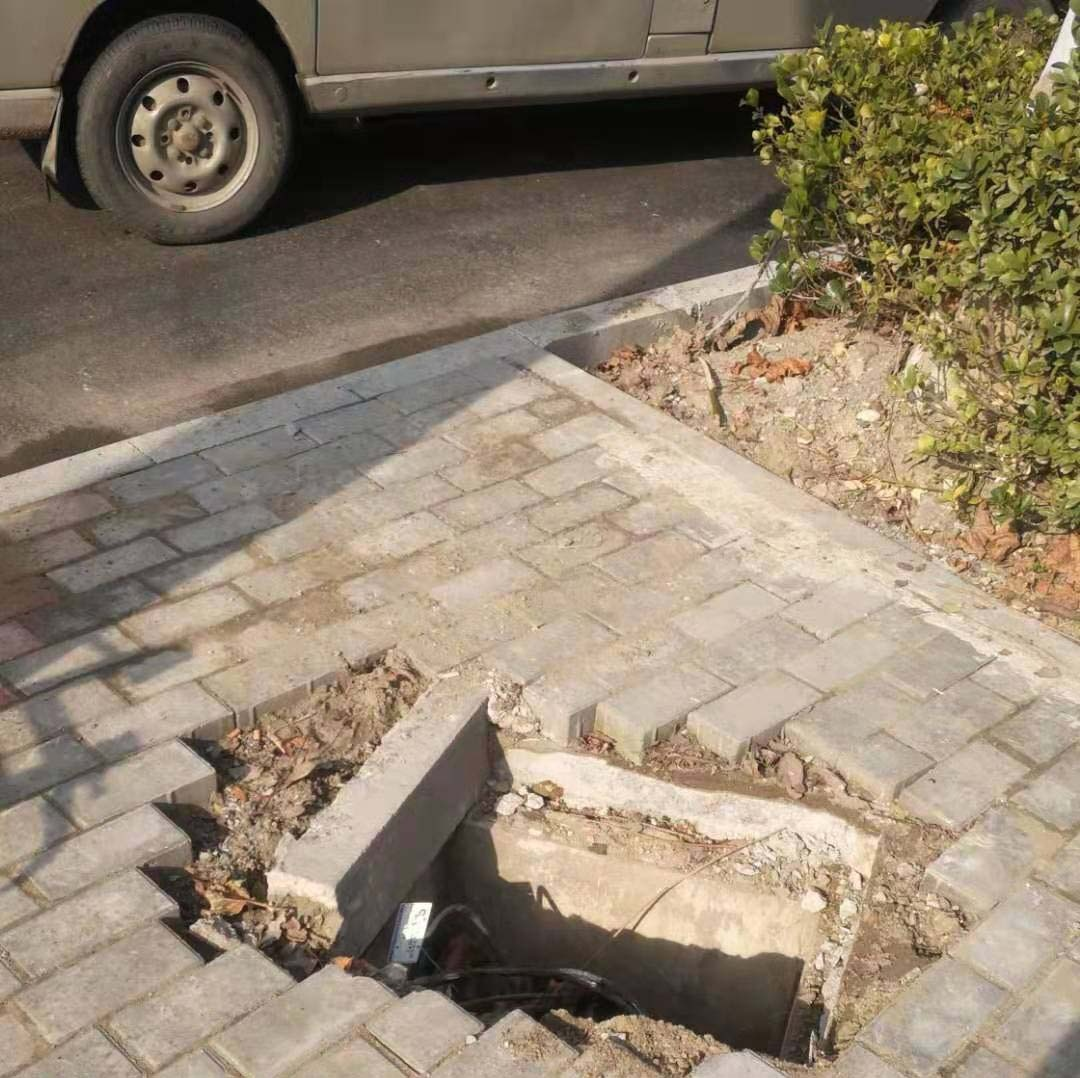lose: (210, 731, 885, 1078)
